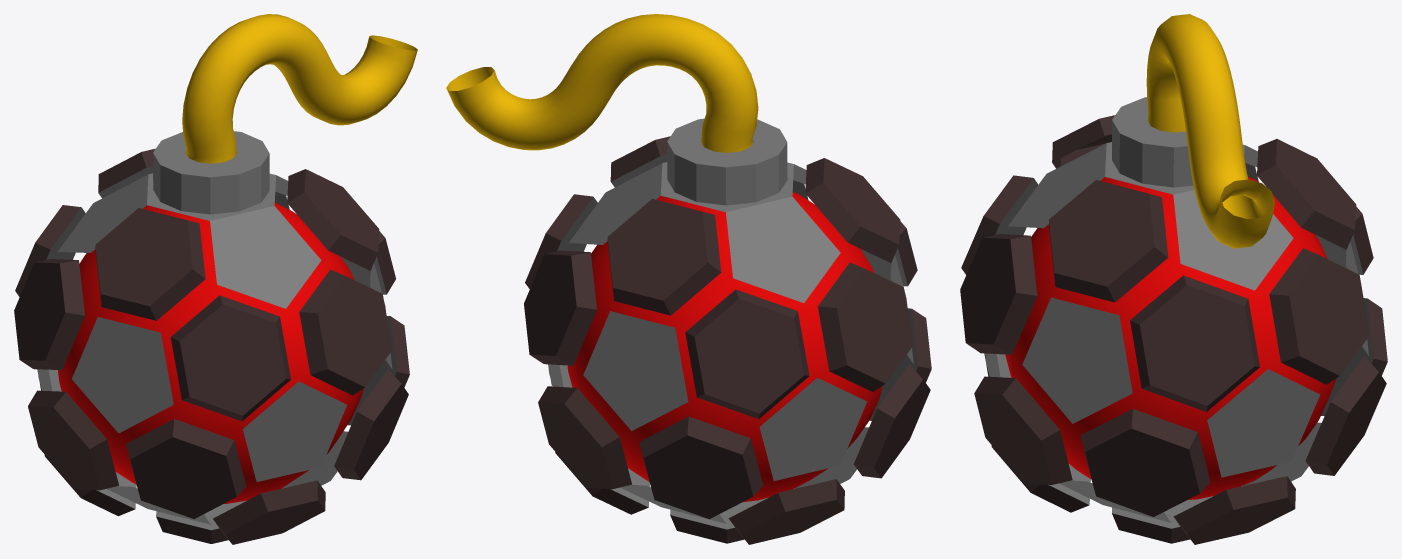
File: red bomb temp.fbx
3 views of the same model, side by side, from view 1: azimuth 30°, elevation 25°; view 2: azimuth 150°, elevation 25°; view 3: azimuth 270°, elevation 25° (orthographic). The views are drawn at different scales.
Visible parts, largest first — view 1: polySurface14, polySurface11, pSphere1; view 2: polySurface14, polySurface11, pSphere1; view 3: polySurface14, pSphere1, polySurface11.
Boxes of the visible parts, x1,y1,x2,y2 form: polySurface14: [14, 131, 409, 544]; polySurface11: [182, 14, 417, 163]; pSphere1: [58, 202, 363, 503]; polySurface14: [524, 118, 931, 544]; polySurface11: [446, 14, 758, 152]; pSphere1: [567, 192, 882, 501]; polySurface14: [960, 97, 1387, 544]; pSphere1: [1005, 177, 1336, 499]; polySurface11: [1146, 14, 1274, 248].
Bounding box in the file's own units: 13.43 × 15.05 × 11.2.
